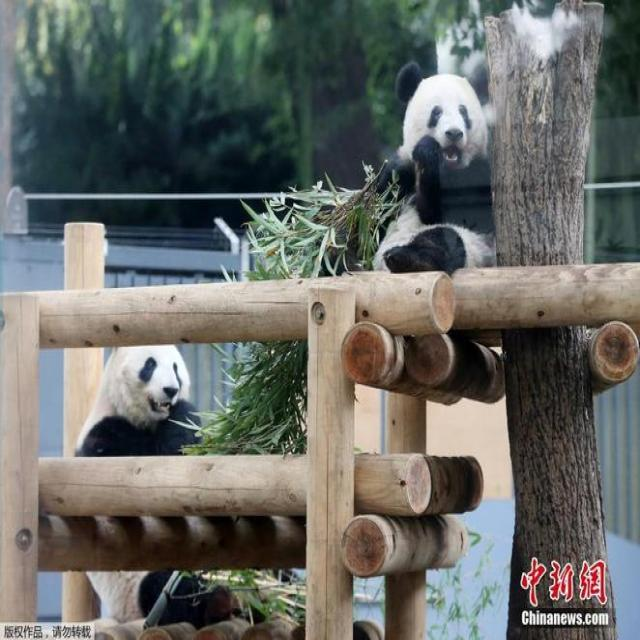panda: (49, 323, 246, 615), (342, 57, 526, 290)
